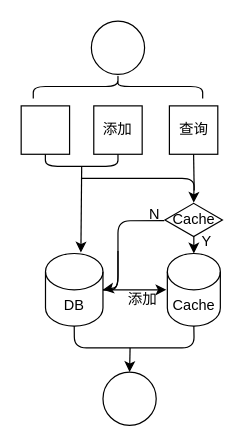
This 244x446 diagram has some shape labels left out. Here are the shapes that lost their labels. From the top down, the box of each, then its label:
(90, 20, 145, 74): 开始
(20, 105, 70, 154): 创建
(102, 371, 156, 425): 结束
